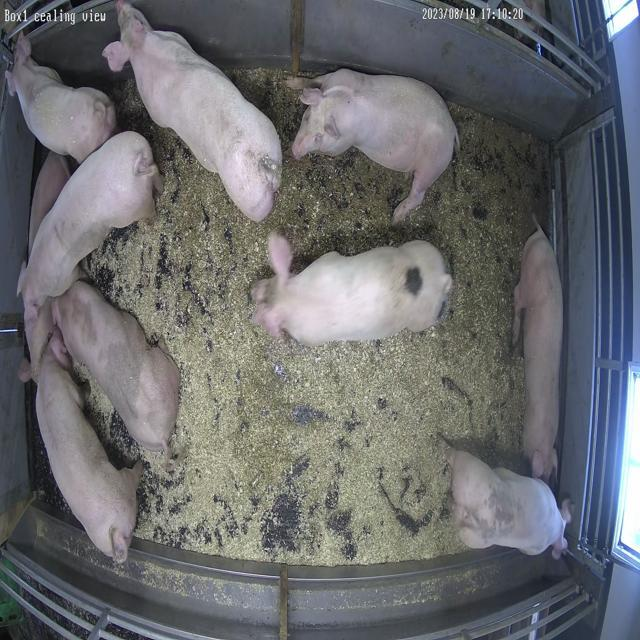Dirt: (304, 105, 551, 344)
Pig: (103, 0, 282, 220), (21, 131, 159, 322), (293, 68, 460, 224), (35, 337, 140, 564), (253, 235, 453, 346), (51, 282, 178, 452), (5, 34, 114, 162), (28, 151, 70, 252)
